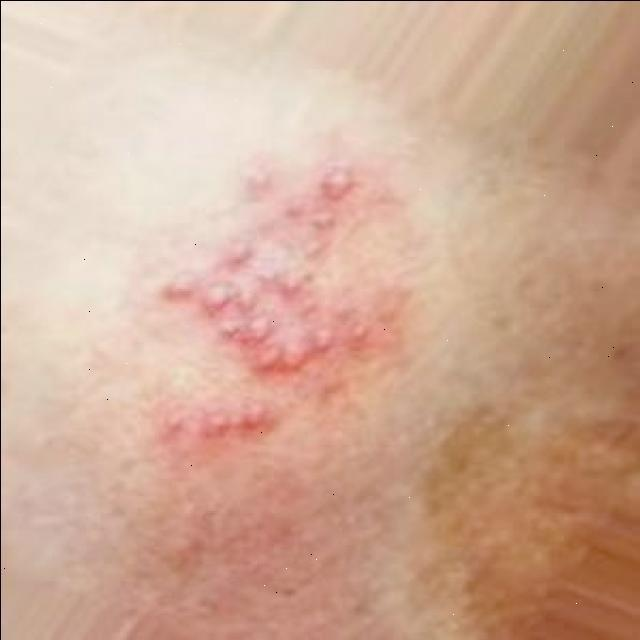Shingles: (164, 164, 378, 440)
